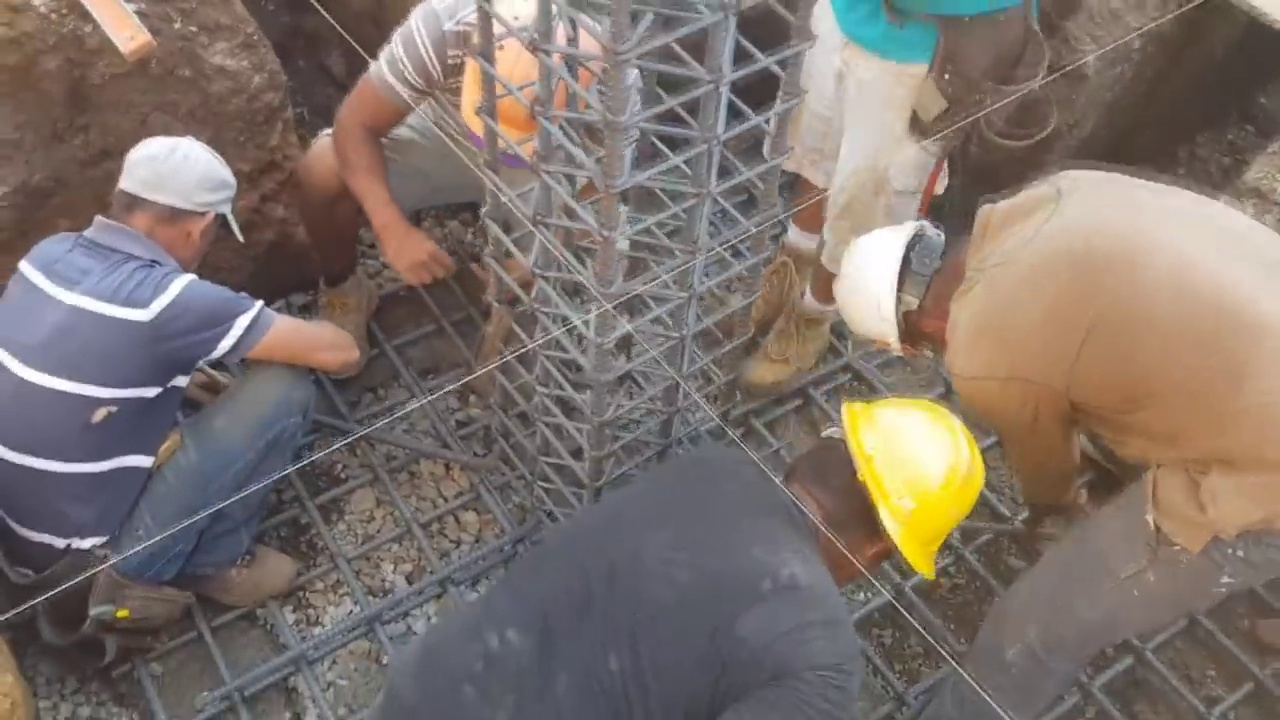helmet: (835, 400, 986, 584), (455, 0, 615, 157), (850, 205, 942, 363)
helmet-off: (104, 130, 240, 265)
helmet-on: (777, 400, 990, 589), (843, 200, 982, 363)
person: (844, 172, 1279, 701), (364, 395, 992, 720), (0, 129, 365, 626), (299, 7, 649, 338), (741, 2, 1027, 397)
